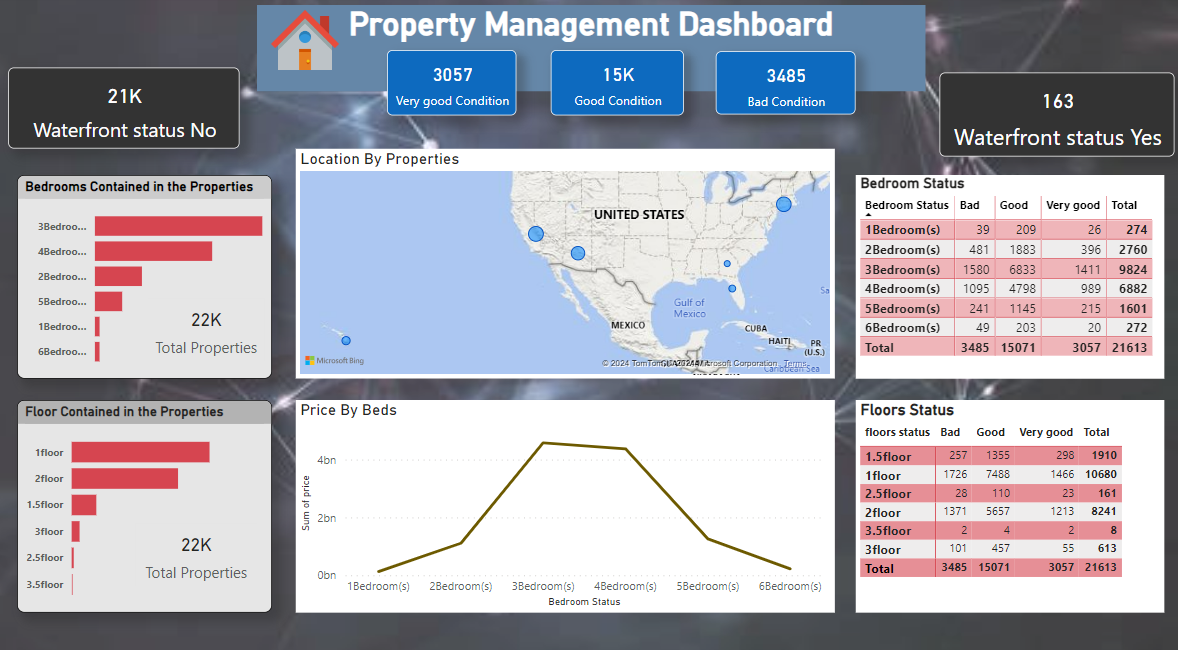

What the dashboard file says about the page in this screenshot:
{"tool":"powerbi","page":{"name":"Page 1","canvas":[1280,720],"ordinal":0},"visuals":[{"type":"barChart","title":"Bedrooms Contained in the Properties","fields":{"Y":["Measures (2).Total Properties"],"Category":["Dim_Bedroom Status.Bedroom Status"]},"box":[21.5,193.7,274.3,219.2],"z":0},{"type":"card","fields":{"Values":["Measures (2).Total Properties"]},"box":[162.7,326.8,125.1,67.2],"z":1000},{"type":"barChart","title":"Floor Contained in the Properties","fields":{"Category":["Dim_Floor Status.floors status"],"Y":["Measures (2).Total Properties"]},"box":[21.5,435.7,274.3,228.6],"z":2000},{"type":"card","fields":{"Values":["Measures (2).Waterfront status No"]},"box":[12.1,78,231.3,87.4],"z":3000},{"type":"card","fields":{"Values":["Measures (2).Waterfront status Yes"]},"box":[1014,83.4,252.8,90.1],"z":4000},{"type":"map","title":"Location By Properties","fields":{"Category":["Dim_Location.Property location"],"Size":["Measures (2).Total Properties"]},"box":[321.4,165.4,579.6,247.4],"z":5000},{"type":"pivotTable","title":"Floors Status","fields":{"Rows":["Dim_Floor Status.floors status"],"Columns":["Dim_Condition Status.Condition Status"],"Values":["Measures (2).Total Properties"]},"box":[923.9,435.7,332.2,228.6],"z":6000},{"type":"pivotTable","title":"Bedroom Status","fields":{"Rows":["Dim_Bedroom Status.Bedroom Status"],"Columns":["Dim_Condition Status.Condition Status"],"Values":["Measures (2).Total Properties"]},"box":[923.9,193.7,332.2,219.2],"z":7000},{"type":"lineChart","title":"Price By Beds","fields":{"Y":["Sum(house_data.price)"],"Category":["house_data.Bedroom Status"]},"box":[321.4,435.7,579.6,228.6],"z":8000},{"type":"card","fields":{"Values":["Measures (2).Total Properties"]},"box":[149.3,568.9,130.4,67.2],"z":11000},{"type":"textbox","title":"Property Management Dashboard","box":[280,10.5,719,93],"z":13000},{"type":"image","box":[288.3,8.3,87.4,87.4],"z":14000},{"type":"card","fields":{"Values":["Measures (2).Bad Condition"]},"box":[773,60.5,150,68],"z":14500},{"type":"card","fields":{"Values":["Measures (2).Good Condition"]},"box":[596,58.5,143,70],"z":15000},{"type":"card","fields":{"Values":["Measures (2).Very good Condition"]},"box":[420,58.5,139,70],"z":15500}]}

Visuals, with their boxes in screenshot pixels (x1, y1, x2, y2), scaled from the page's 1280x720 canvas onto the 1178x650 screenshot:
"Bedrooms Contained in the Properties" barChart: [x1=20, y1=175, x2=272, y2=373]
card - Measures (2).Total Properties: [x1=150, y1=295, x2=265, y2=356]
"Floor Contained in the Properties" barChart: [x1=20, y1=393, x2=272, y2=600]
card - Measures (2).Waterfront status No: [x1=11, y1=70, x2=224, y2=149]
card - Measures (2).Waterfront status Yes: [x1=933, y1=75, x2=1166, y2=157]
"Location By Properties" map: [x1=296, y1=149, x2=829, y2=373]
"Floors Status" pivotTable: [x1=850, y1=393, x2=1156, y2=600]
"Bedroom Status" pivotTable: [x1=850, y1=175, x2=1156, y2=373]
"Price By Beds" lineChart: [x1=296, y1=393, x2=829, y2=600]
card - Measures (2).Total Properties: [x1=137, y1=514, x2=257, y2=574]
"Property Management Dashboard" textbox: [x1=258, y1=9, x2=919, y2=93]
image: [x1=265, y1=7, x2=346, y2=86]
card - Measures (2).Bad Condition: [x1=711, y1=55, x2=849, y2=116]
card - Measures (2).Good Condition: [x1=549, y1=53, x2=680, y2=116]
card - Measures (2).Very good Condition: [x1=387, y1=53, x2=514, y2=116]
